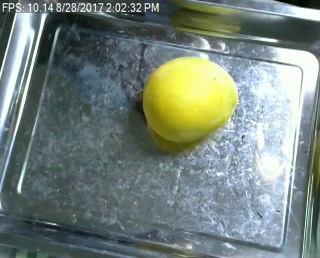Mango: (142, 54, 237, 141)
